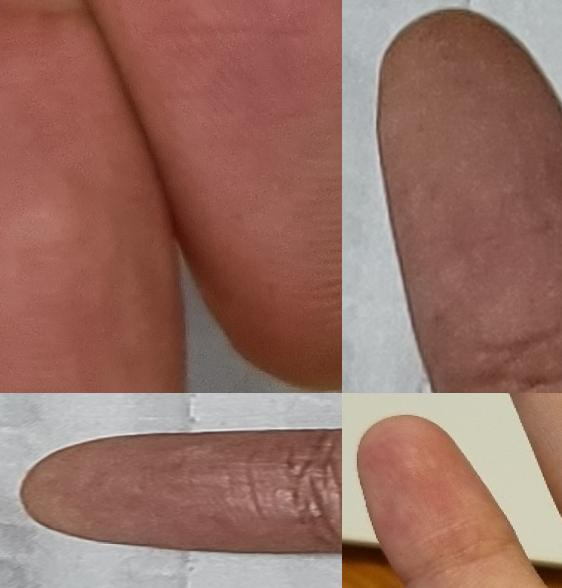Fingerprints: (375, 7, 562, 393), (0, 11, 187, 393), (17, 428, 338, 553), (358, 415, 520, 585)
